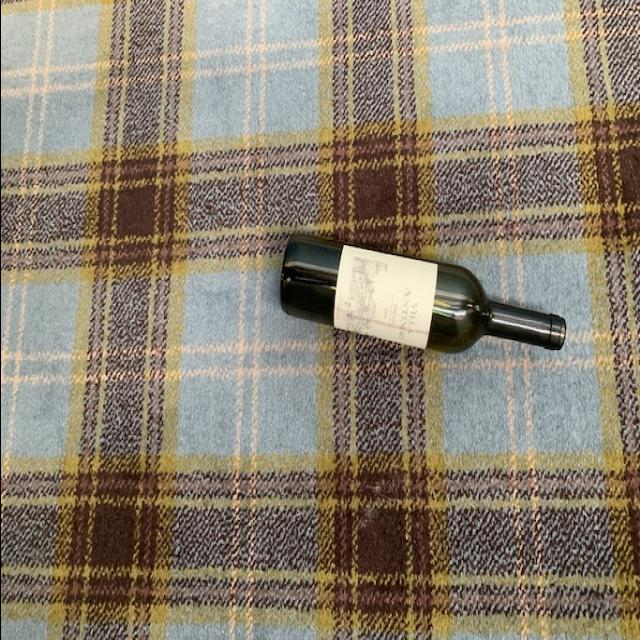Glass Bottle: (276, 231, 570, 360)
